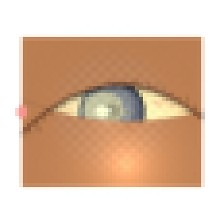corneal_ulcer: (70, 83, 136, 136)
